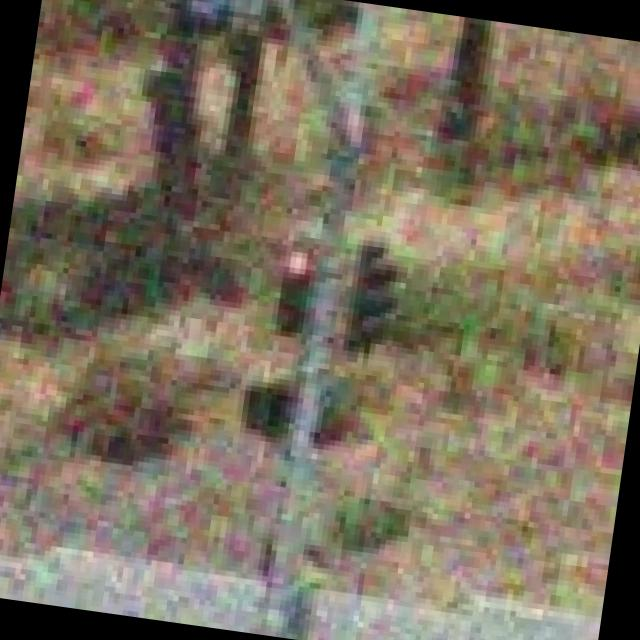red-lights: (268, 234, 327, 297)
